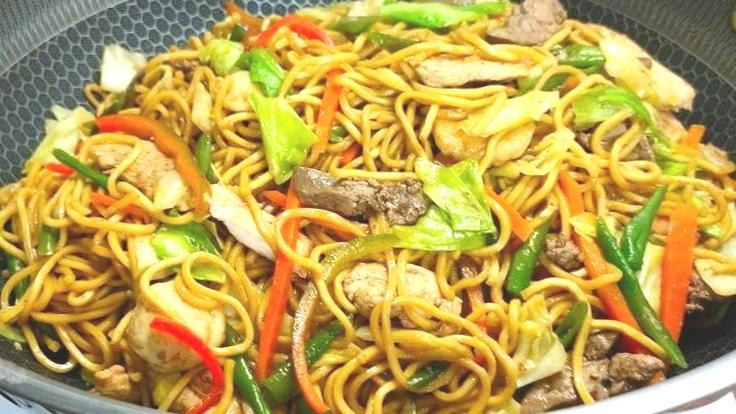pancit bihon: (0, 0, 735, 413)
